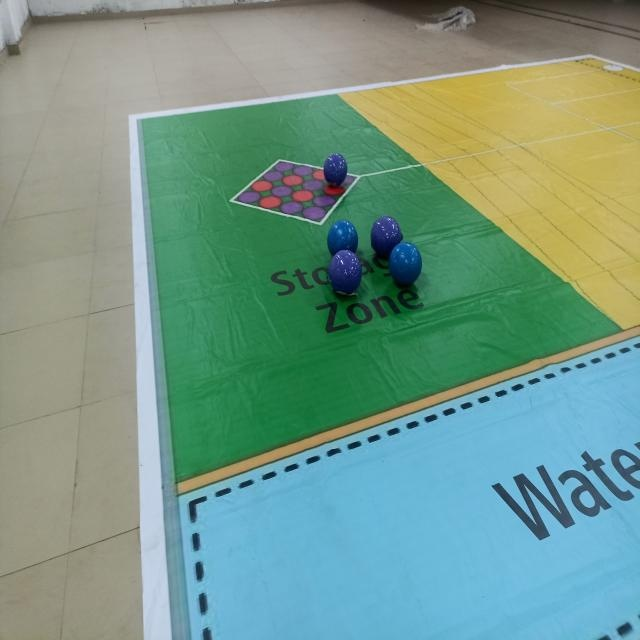blue_ball: (330, 250, 361, 292), (389, 243, 422, 282), (329, 220, 358, 256)
purple_ball: (372, 216, 402, 249), (323, 154, 348, 185)
